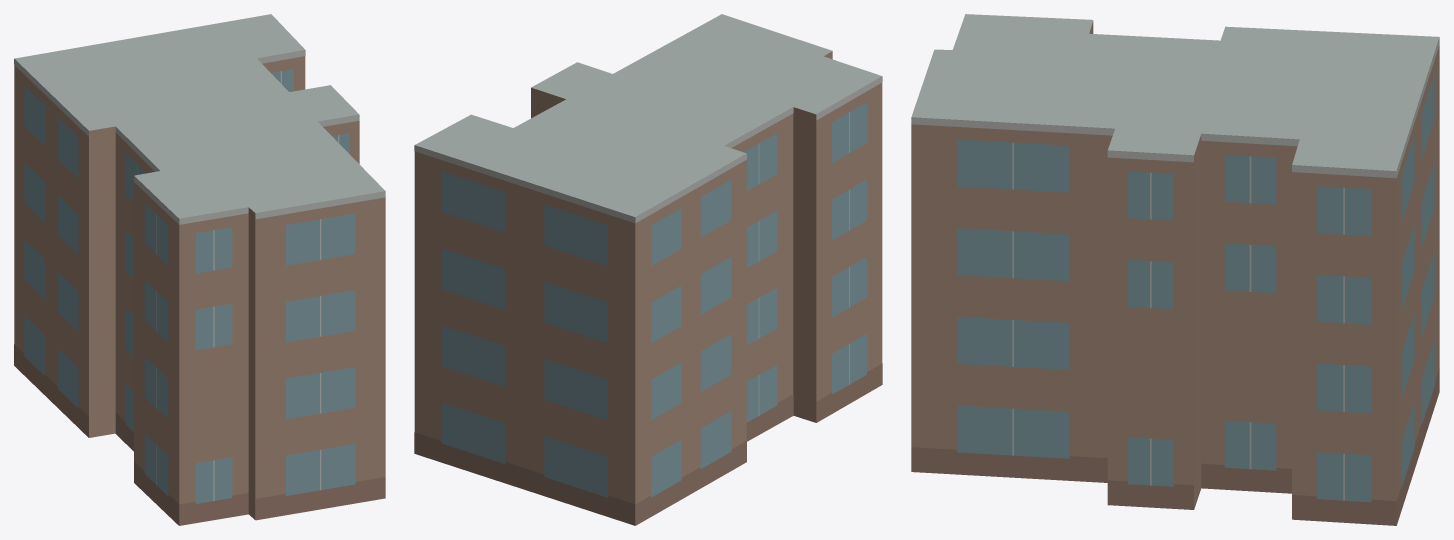
The model's file is survey-upis-32944575.glb.
The picture shows the model from 3 angles, left to right: view 1: azimuth 30°, elevation 25°; view 2: azimuth 150°, elevation 25°; view 3: azimuth 270°, elevation 25°; orthographic projection. The views are drawn at different scales.
Visible parts, largest first — view 1: survey-upis-32944575.tmp; view 2: survey-upis-32944575.tmp; view 3: survey-upis-32944575.tmp.
Part boxes in pixels (<box>): survey-upis-32944575.tmp: <box>14,14,385,525</box>; survey-upis-32944575.tmp: <box>414,14,882,525</box>; survey-upis-32944575.tmp: <box>911,14,1439,525</box>.
Bounding box in the file's own units: 11.61 × 12.2 × 16.48.
